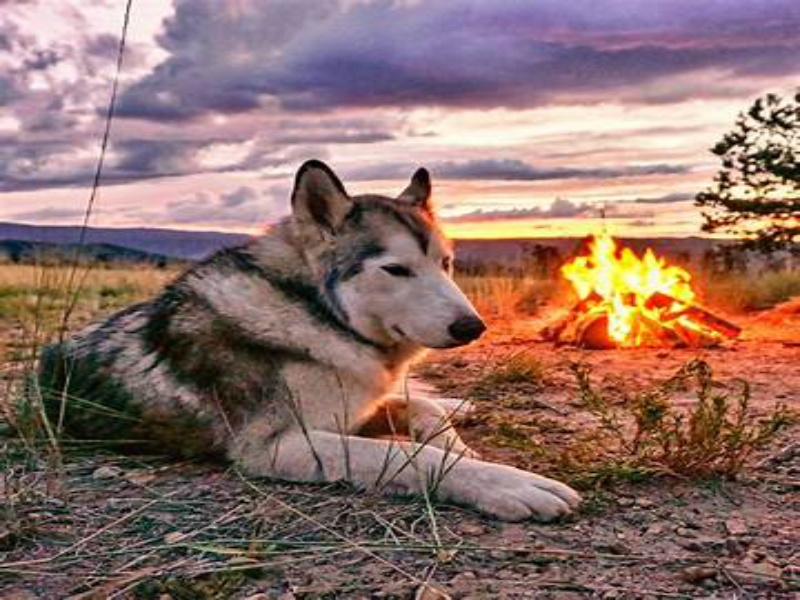fire: (565, 229, 694, 316)
